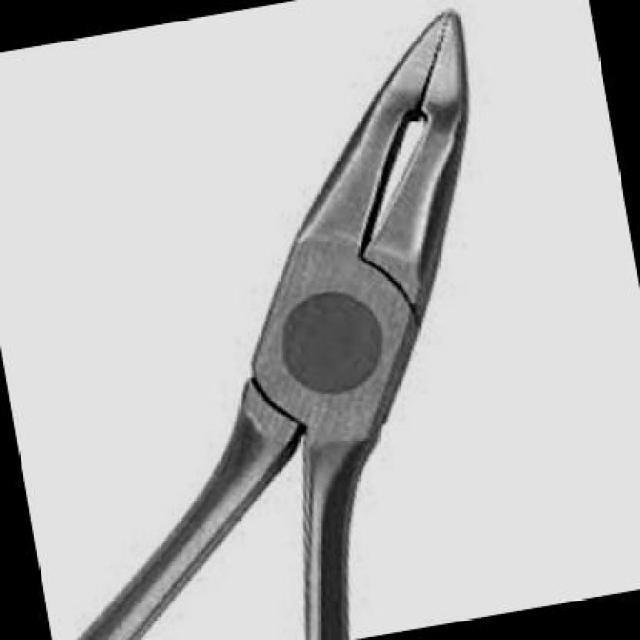pliers: (0, 0, 577, 638)
